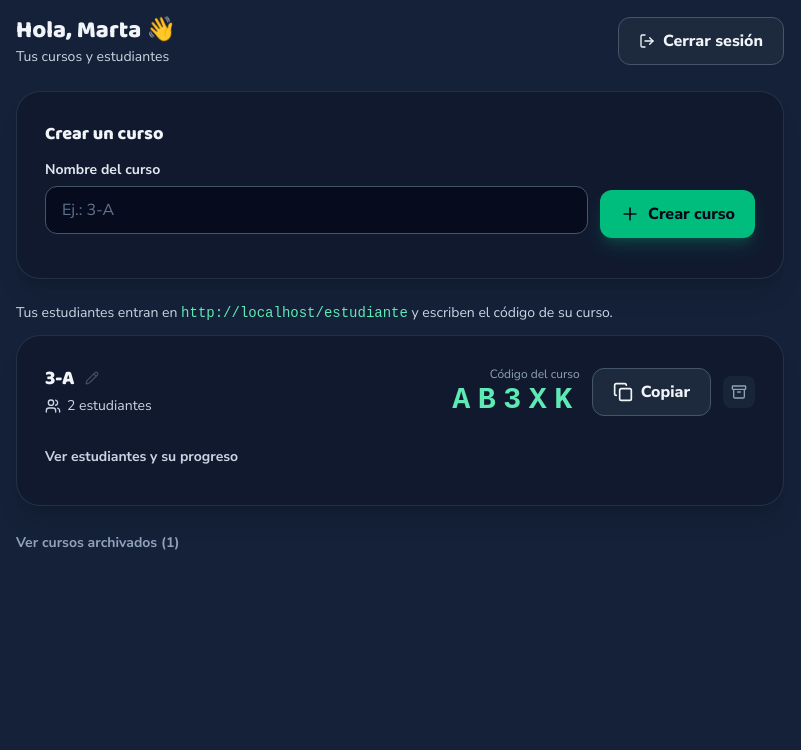
Test: TeacherPanel · resumen del curso › marca con 📉 a quien juega pero acierta poco, y lo cuenta en el resumen
Expected: the text "Tus cursos y estudiantes" is shown, [16,47,176,67]
Click the heading "Ver estudiantes y su progreso".
click(142, 456)  # box [45,447,238,466]
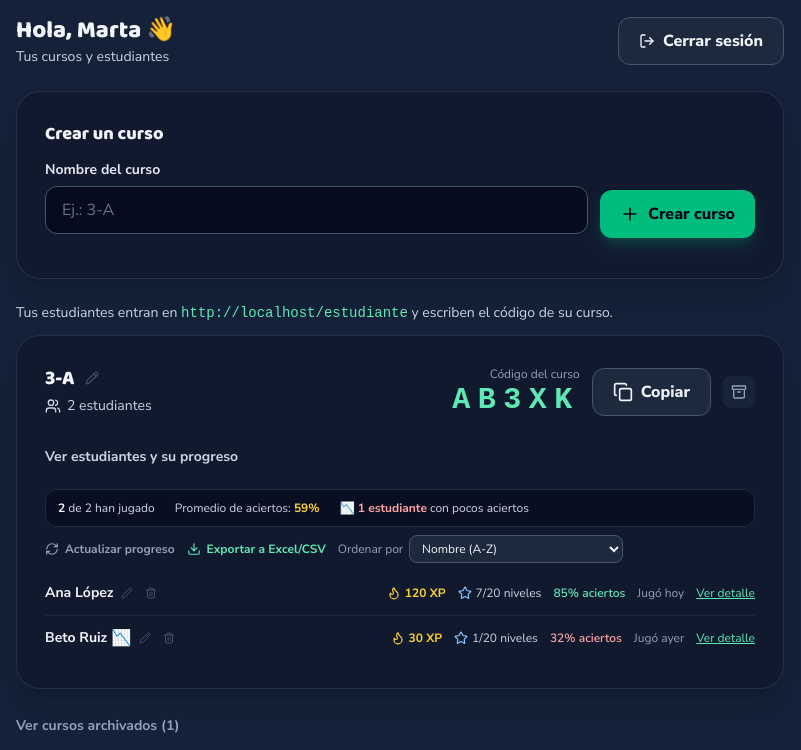
Expected: the text "📉 1 estudiante con pocos aciertos" is shown, [340,500,529,516]
Expected: the number of elements named "Pocos aciertos" is 1, [111,626,131,650]
